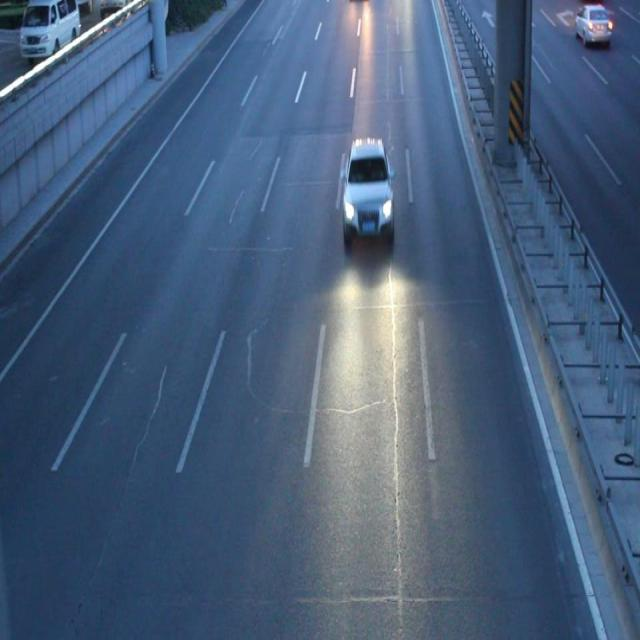car: (339, 139, 394, 243)
